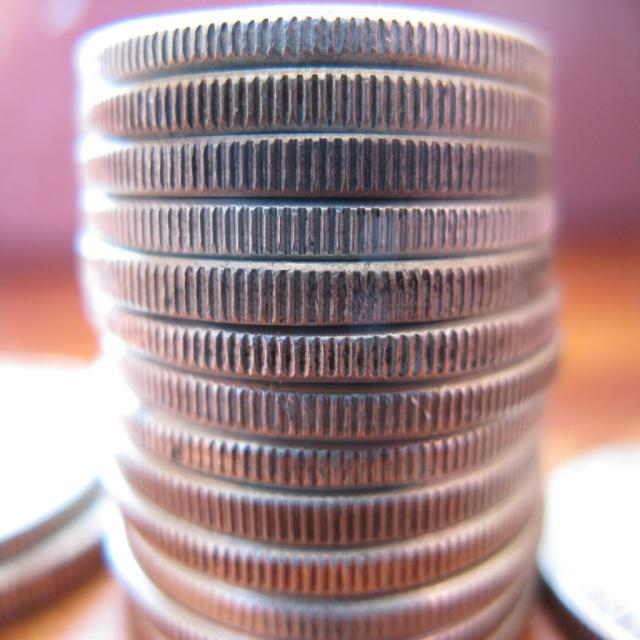Coin: (75, 0, 556, 639), (534, 443, 640, 639)
